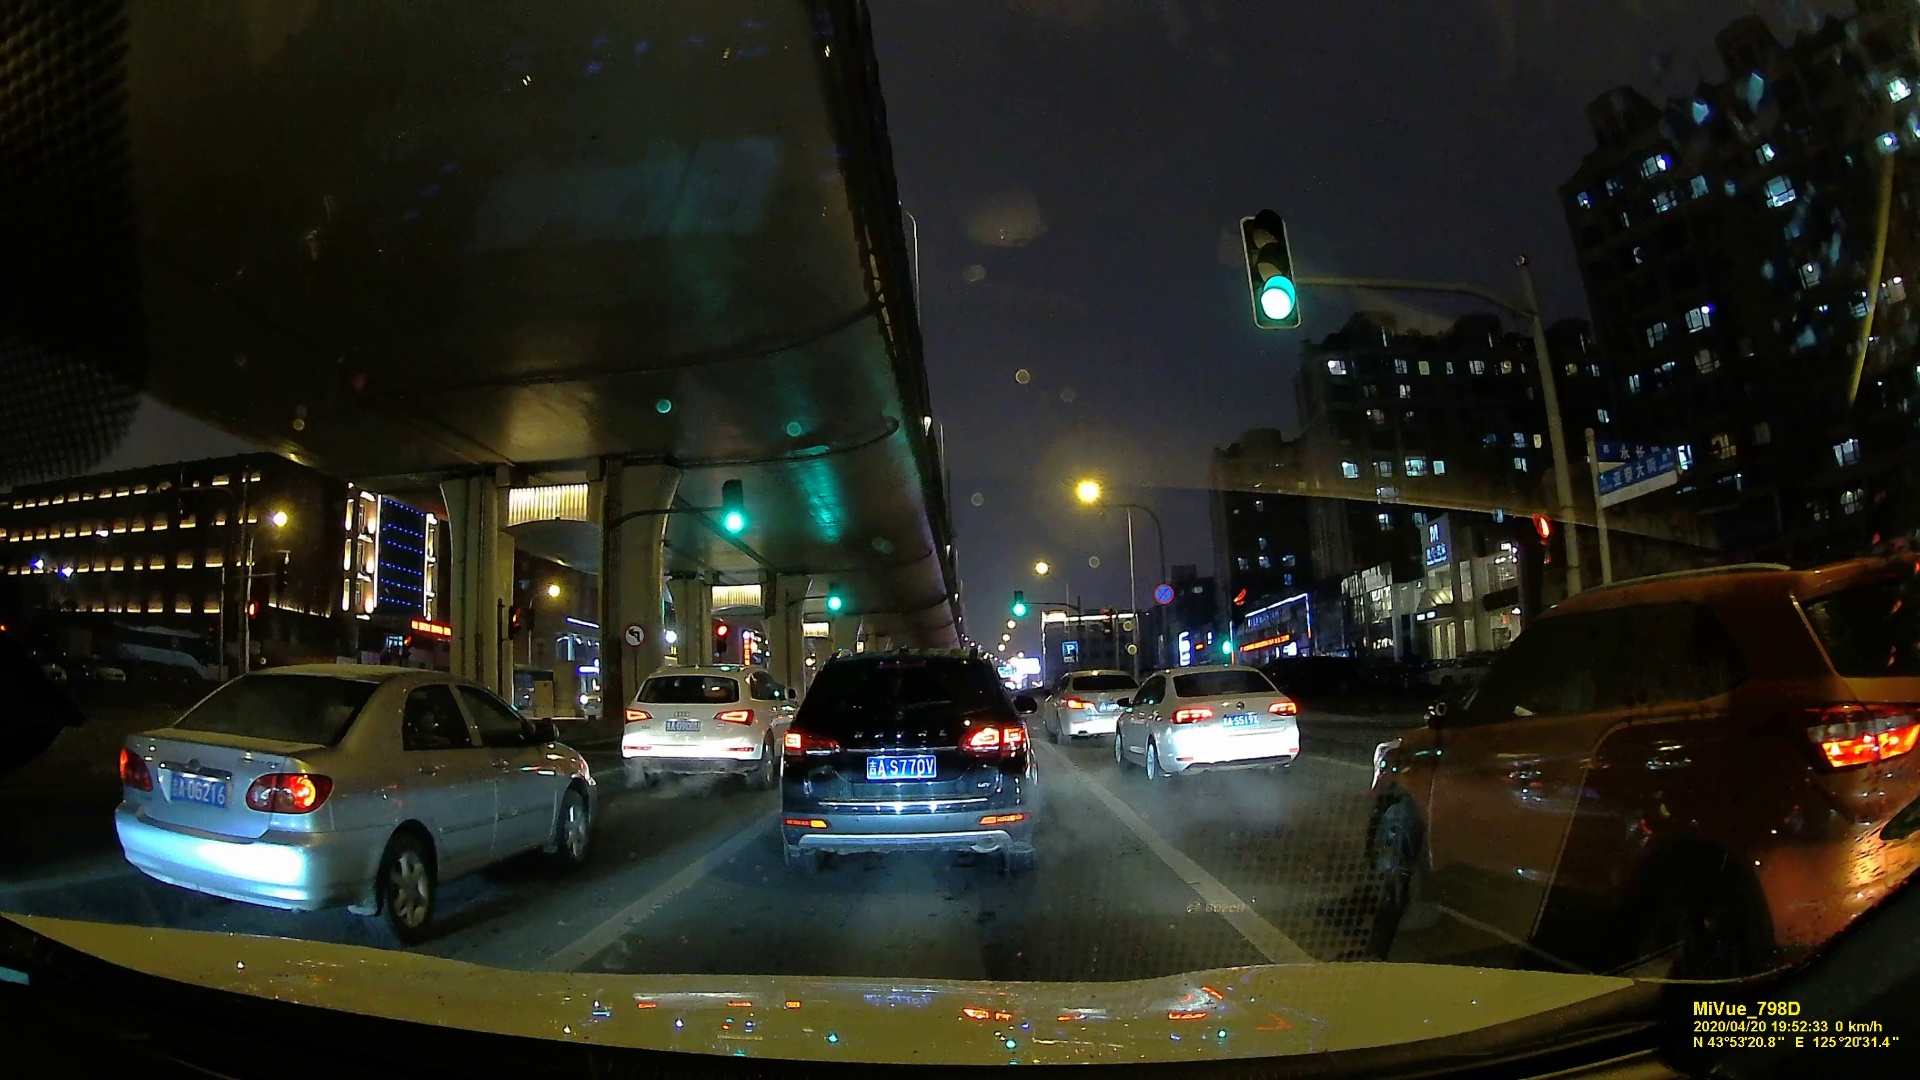traffic_sign: (1244, 208, 1308, 331), (1588, 451, 1685, 495), (1528, 508, 1563, 571), (721, 483, 745, 533), (708, 616, 731, 662), (1229, 589, 1250, 622), (1153, 582, 1175, 605), (1062, 640, 1081, 663), (1010, 589, 1026, 618), (625, 625, 646, 646), (828, 582, 843, 612)
vehicle: (1367, 576, 1916, 980), (103, 665, 607, 931), (767, 640, 1054, 881), (1116, 662, 1302, 781), (621, 663, 781, 793), (1033, 669, 1134, 744)
